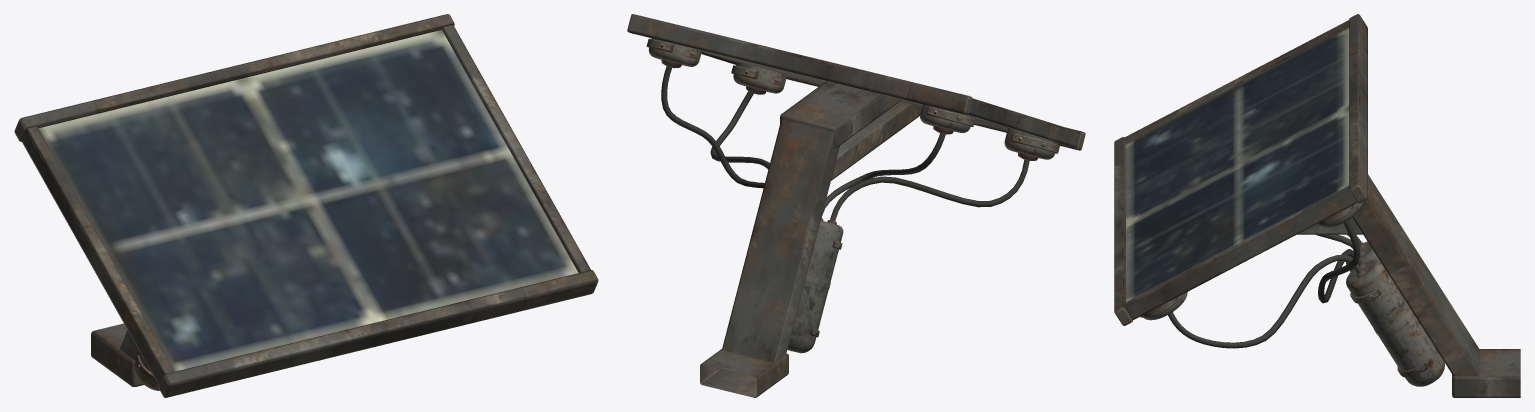
Rendered from prop_small_016.glb.
The picture shows the model from 3 angles, left to right: view 1: azimuth 30°, elevation 25°; view 2: azimuth 150°, elevation 25°; view 3: azimuth 270°, elevation 25°; orthographic projection. The views are drawn at different scales.
Visible parts, largest first — view 1: Building_12_040; view 2: Building_12_040; view 3: Building_12_040.
Part boxes in pixels (bbox=[...]): Building_12_040: bbox=[14, 14, 598, 397]; Building_12_040: bbox=[627, 14, 1085, 397]; Building_12_040: bbox=[1114, 14, 1520, 397].
Bounding box in the file's own units: 0.7983 × 0.627 × 0.8.
1 material, 1 textured.
